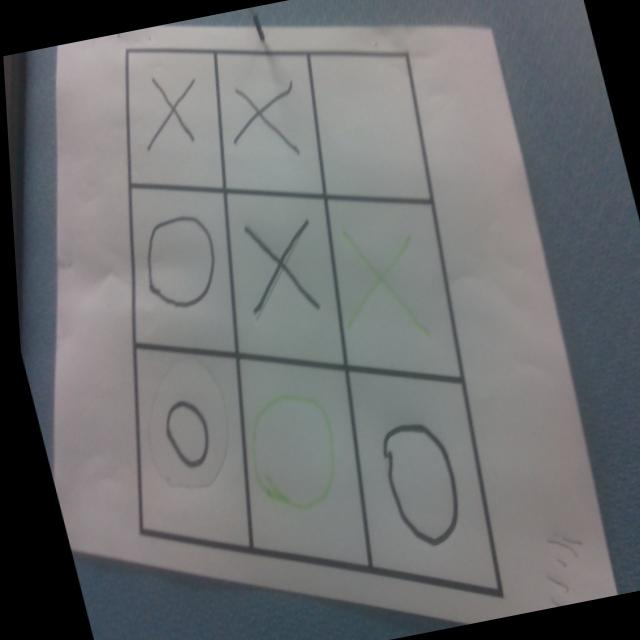null: (290, 38, 439, 220)
o: (225, 380, 344, 519), (366, 411, 465, 552), (130, 207, 225, 314), (152, 396, 213, 474)
table: (16, 7, 541, 640)
x: (321, 234, 428, 351), (233, 217, 322, 323), (220, 76, 303, 164), (131, 72, 209, 155)
